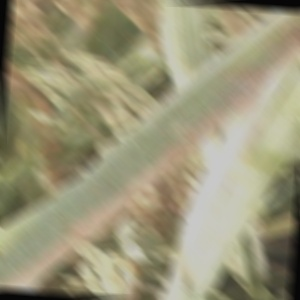Leaf_Blast: (0, 158, 109, 292), (224, 71, 289, 237)
